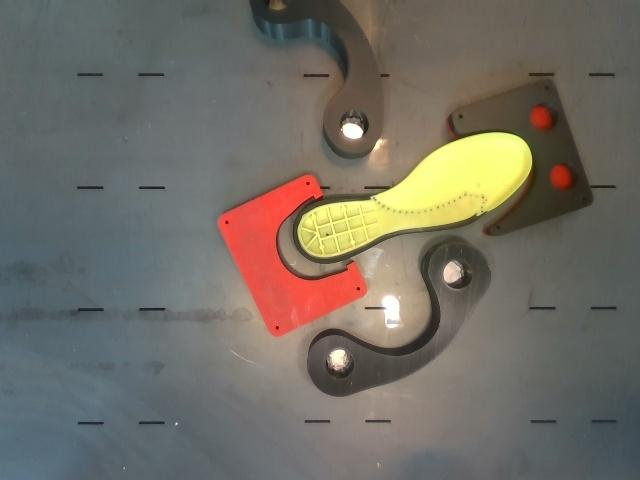shoes: (295, 134, 531, 263)
